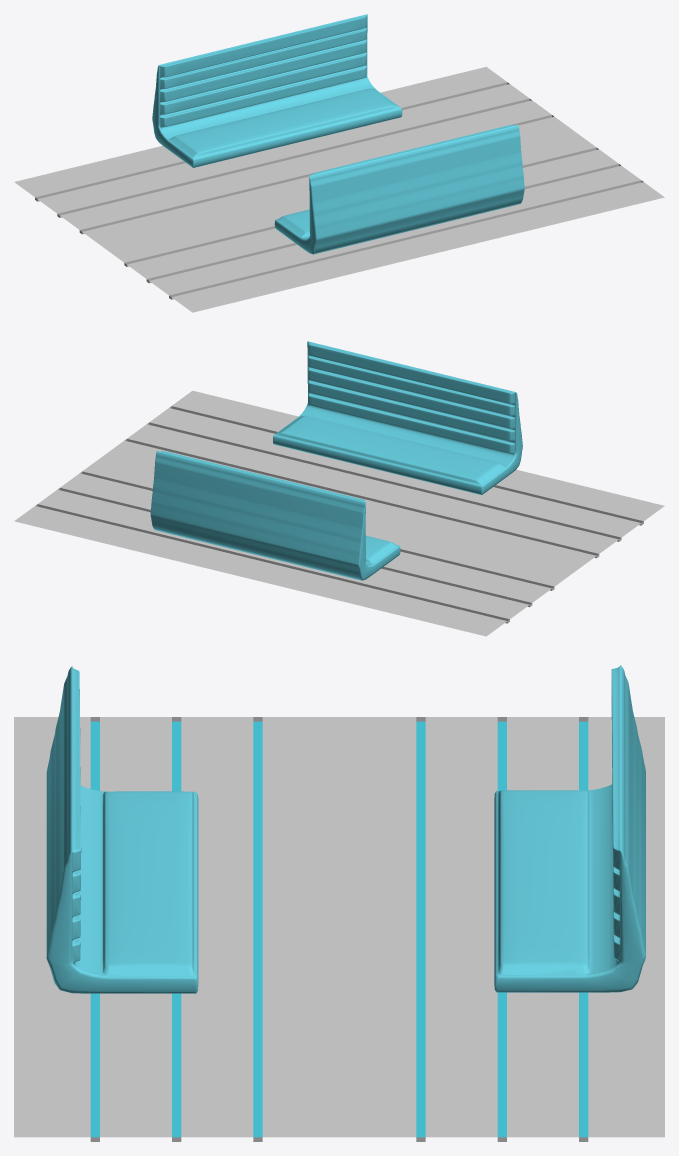
The model's file is Seats.fbx.
The picture shows the model from 3 angles, top to bottom: view 1: azimuth 30°, elevation 25°; view 2: azimuth 150°, elevation 25°; view 3: azimuth 270°, elevation 25°; orthographic projection. The views are drawn at different scales.
Parts seen in each view (by area): view 1: polySurface1; view 2: polySurface1; view 3: polySurface1.
Boxes of the visible parts, left/top/right/bottom form: polySurface1: left=14, top=14, right=664, bottom=312; polySurface1: left=14, top=341, right=664, bottom=636; polySurface1: left=14, top=665, right=664, bottom=1141.
Bounding box in the file's own units: 10.46 × 2.03 × 6.85.
